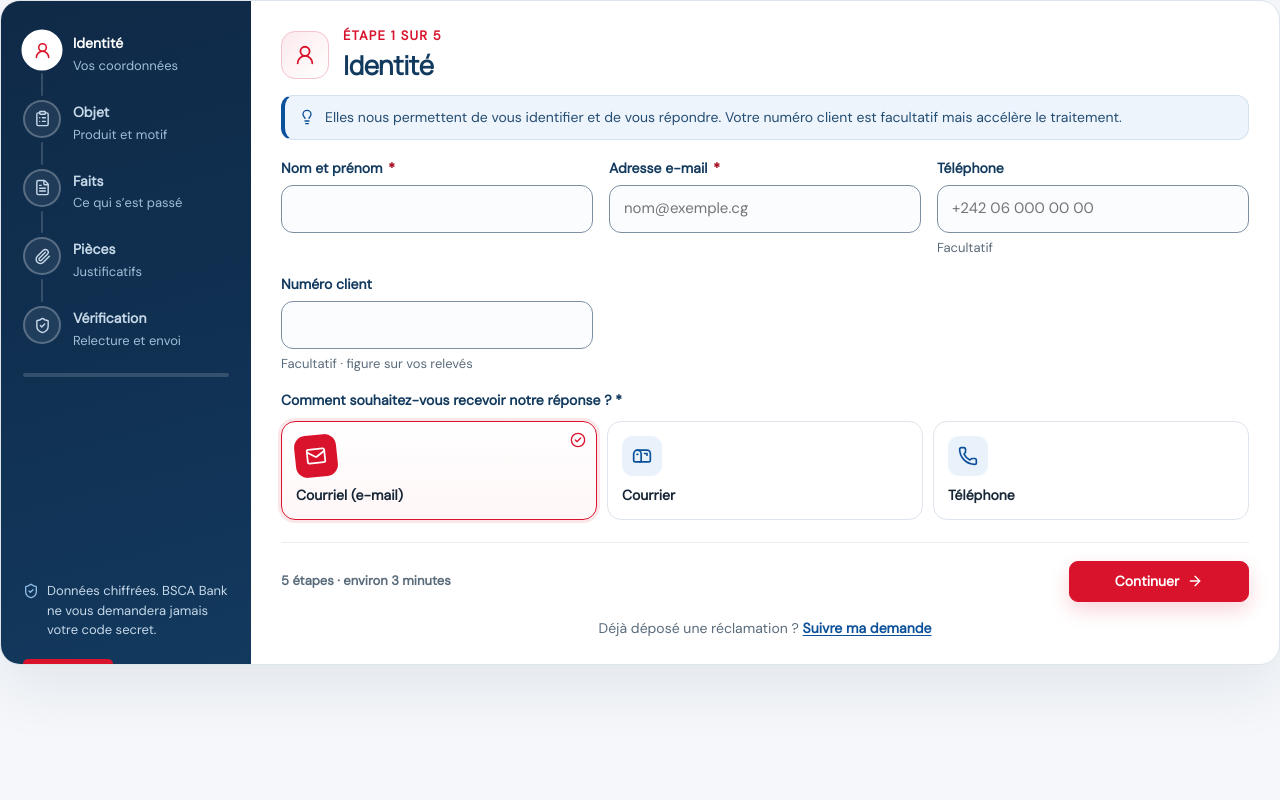
Test case: Formulaire de dépôt multi-étapes › bloque le passage à l’étape suivante tant que l’identité est invalide
The width and height of the screenshot is (1280, 800).
What coordinates should you click on to do the following:
click the button "Continuer"
I would click on:
 (1159, 581)
Its box is [1069,560,1249,602].
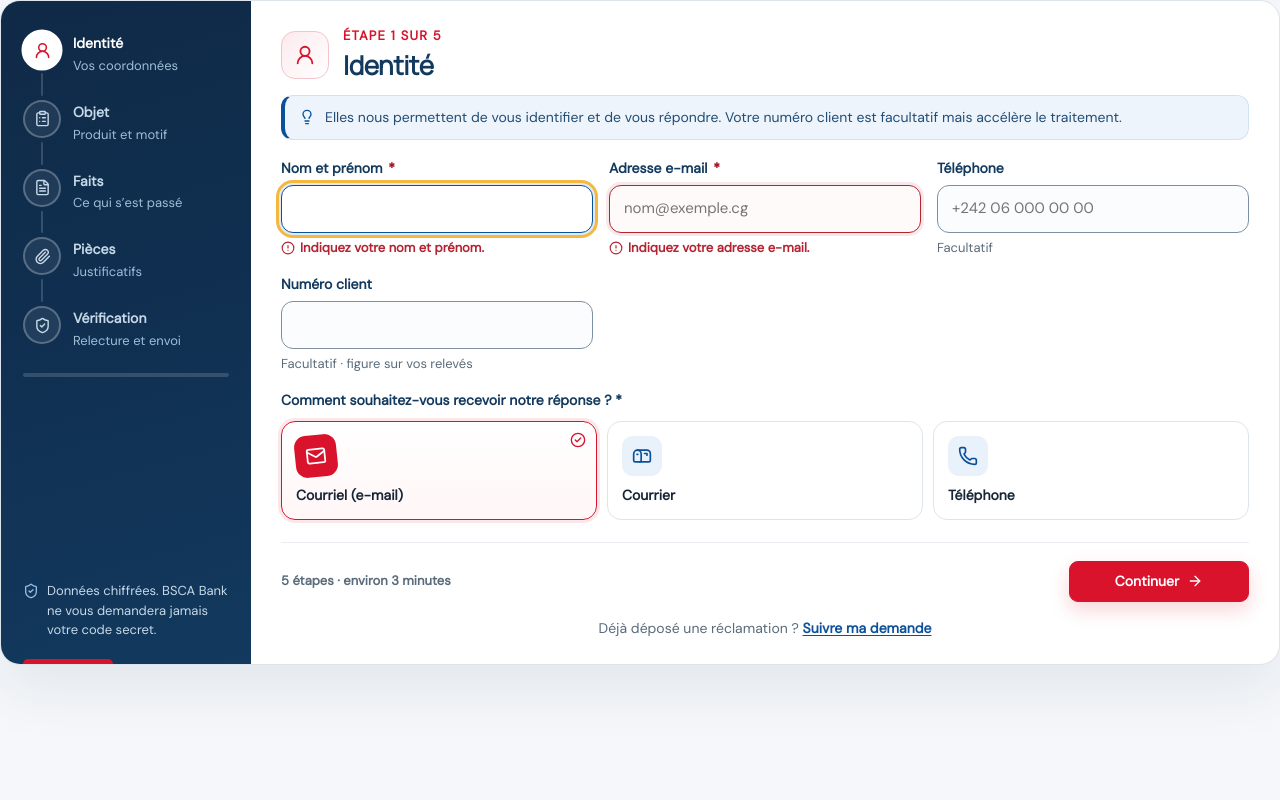
expect the heading "Étape 1 sur 5 Identité" is shown: met, box [343,27,442,83]
expect the text "Indiquez votre nom et prénom." is shown: met, box [281,239,484,256]
